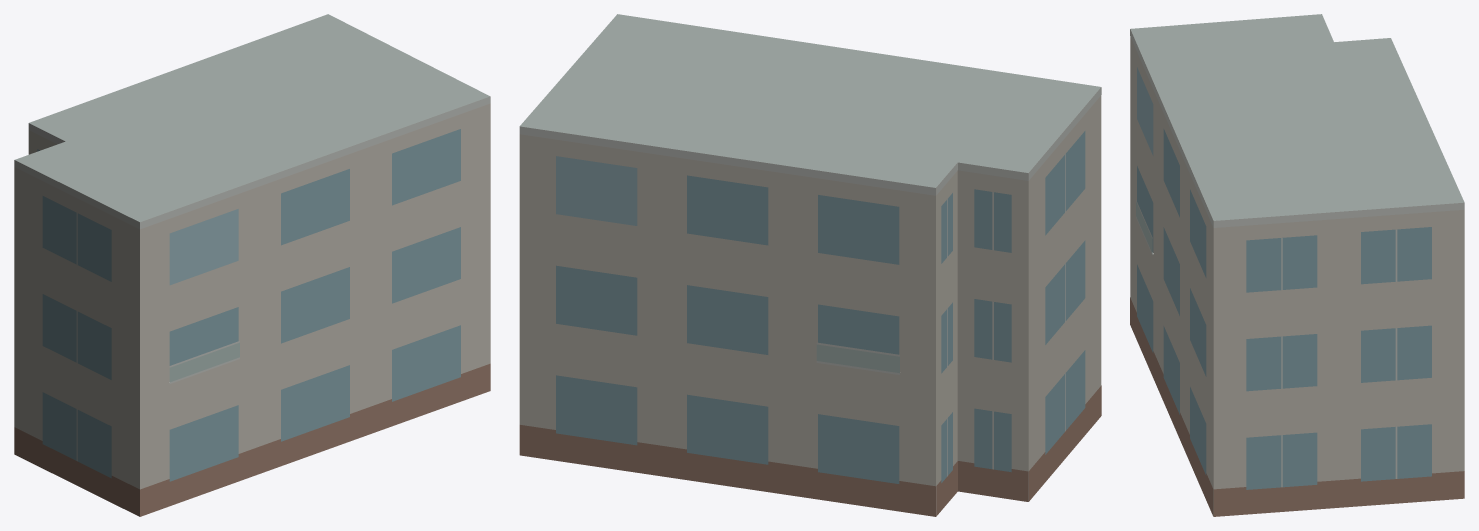
File: survey-upis-32894570.glb
The picture shows the model from 3 angles, left to right: view 1: azimuth 30°, elevation 25°; view 2: azimuth 150°, elevation 25°; view 3: azimuth 270°, elevation 25°; orthographic projection. The views are drawn at different scales.
Visible parts, largest first — view 1: survey-upis-32894570.tmp; view 2: survey-upis-32894570.tmp; view 3: survey-upis-32894570.tmp.
Part boxes in pixels (bbox=[...]): survey-upis-32894570.tmp: bbox=[14, 14, 490, 516]; survey-upis-32894570.tmp: bbox=[519, 14, 1101, 516]; survey-upis-32894570.tmp: bbox=[1130, 14, 1464, 516].
Bounding box in the file's own units: 15.31 × 10.2 × 10.46.
